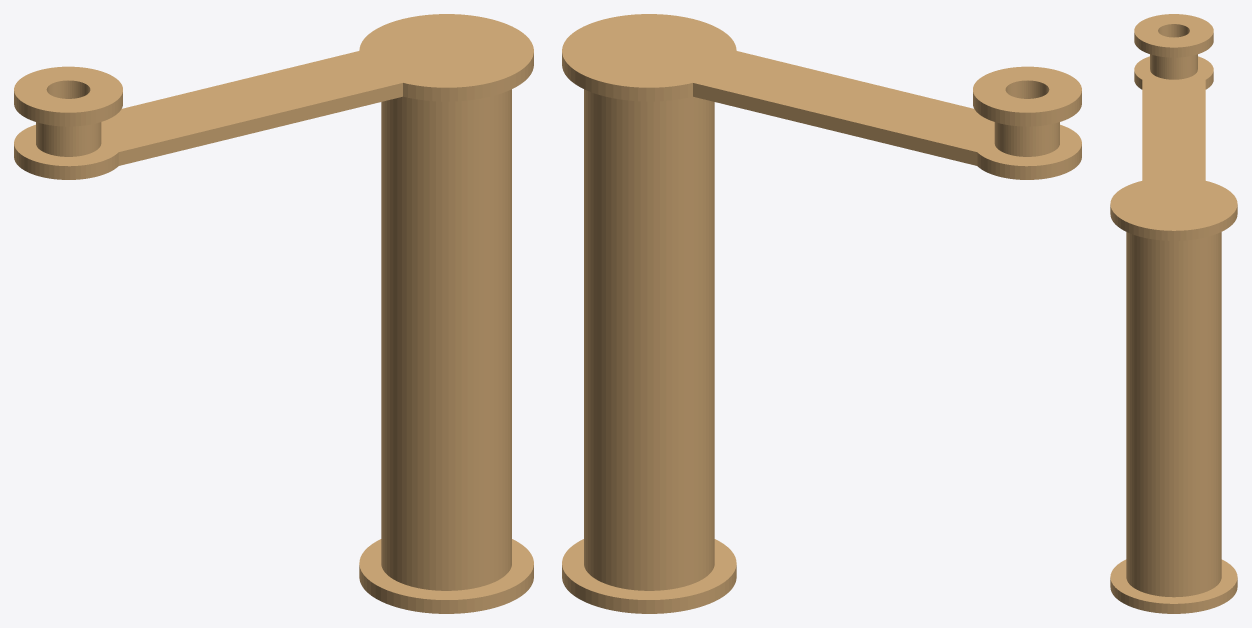
Rendered from board.glb.
3 views of the same model, side by side, from view 1: azimuth 30°, elevation 25°; view 2: azimuth 150°, elevation 25°; view 3: azimuth 270°, elevation 25° (orthographic). The views are drawn at different scales.
Visible parts, largest first — view 1: Bare_Via_Tube_2, Unified_Net_1_Island_0 (×3), Bare_Via_Tube_0; view 2: Bare_Via_Tube_2, Unified_Net_1_Island_0 (×3), Bare_Via_Tube_0; view 3: Bare_Via_Tube_2, Unified_Net_1_Island_0 (×3), Bare_Via_Tube_0.
Part boxes in pixels (x1,y1,x2,y2): Bare_Via_Tube_2: [359, 14, 533, 590]; Unified_Net_1_Island_0 (×3): [14, 14, 533, 613]; Bare_Via_Tube_0: [14, 66, 122, 156]; Bare_Via_Tube_2: [562, 14, 736, 590]; Unified_Net_1_Island_0 (×3): [562, 14, 1081, 613]; Bare_Via_Tube_0: [973, 66, 1081, 156]; Bare_Via_Tube_2: [1110, 177, 1237, 597]; Unified_Net_1_Island_0 (×3): [1110, 14, 1237, 613]; Bare_Via_Tube_0: [1134, 14, 1213, 79].
Size of the model in its own units: 0.00132 by 0.00146 by 0.0004.
